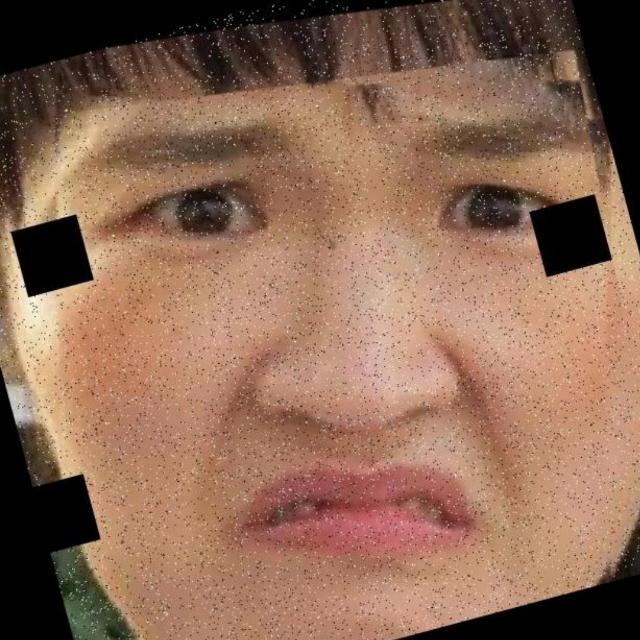Sad: (31, 84, 640, 640)
